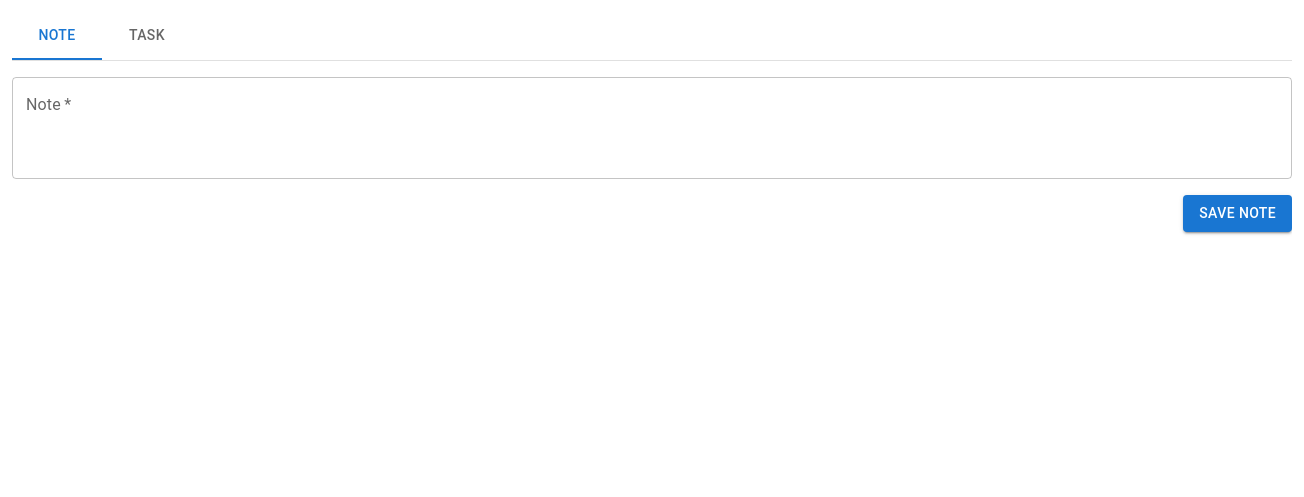
NoteTaskForm › task validation › shows inline error when task title is empty on submit
Click the tab "Task" at (147, 36), box top-left (102, 12), bottom-right (192, 60)
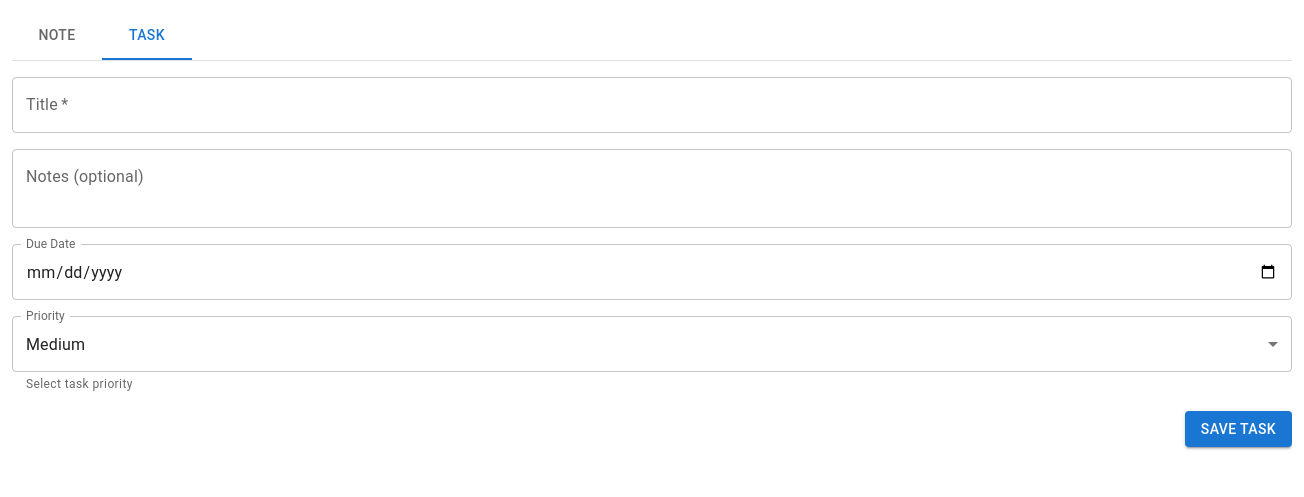
Click the button "Save Task" at (1238, 429), box top-left (1185, 411), bottom-right (1292, 447)
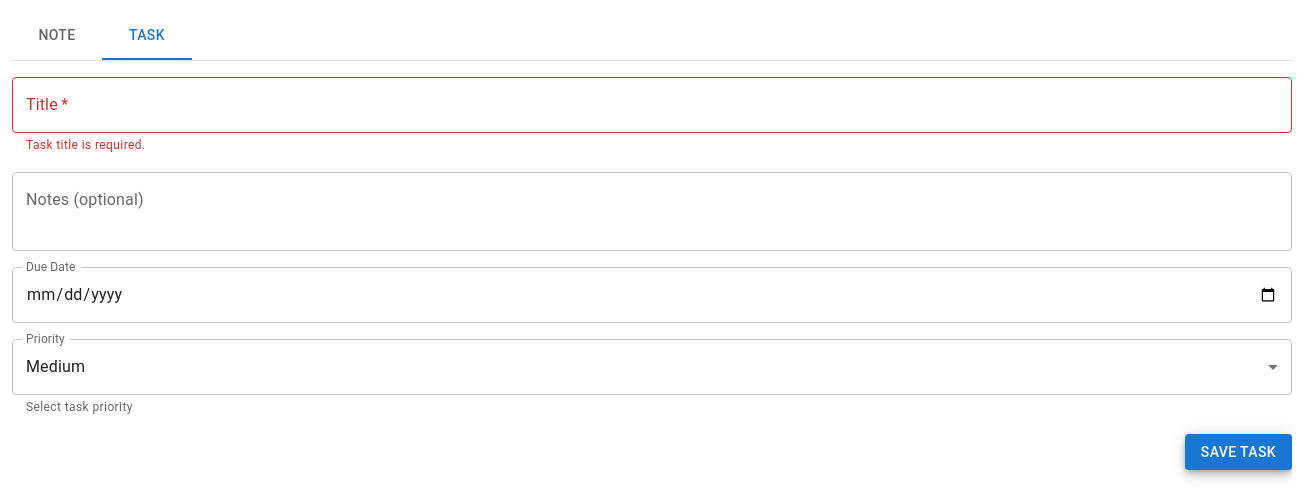
Expected: the text "Task title is required." is shown, top-left (26, 138), bottom-right (146, 152)
